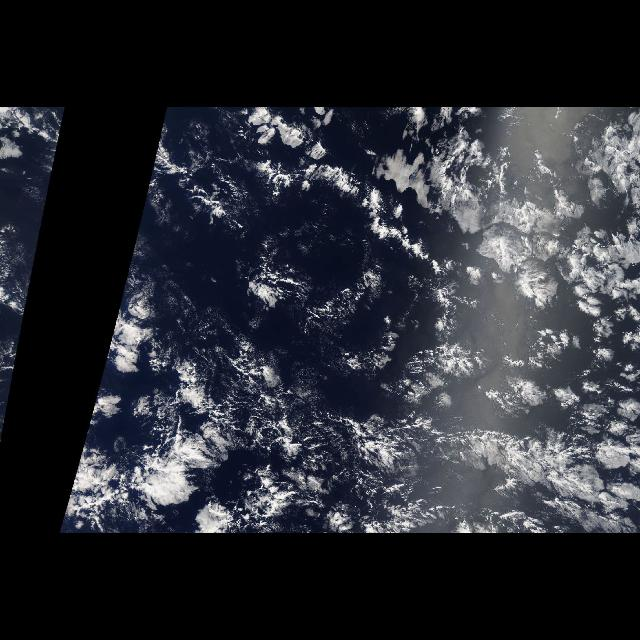Flower: (377, 120, 637, 532)
